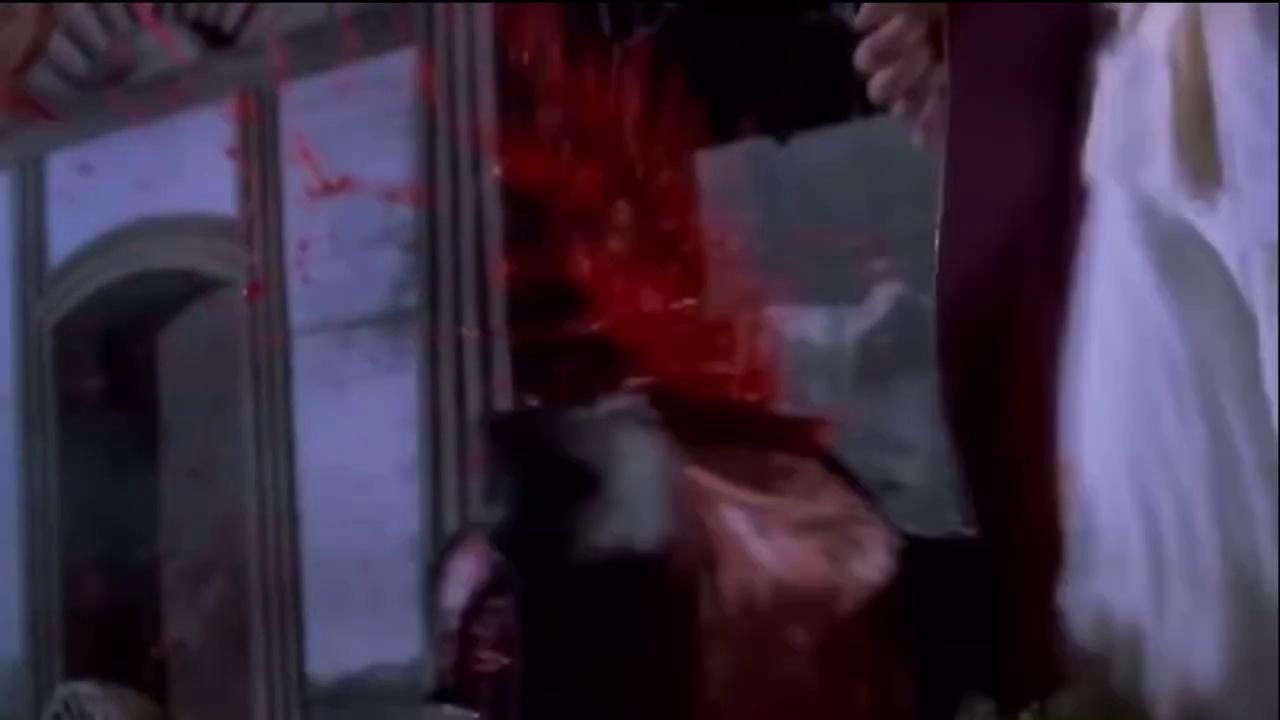Fire: (98, 3, 510, 354), (497, 3, 773, 404), (685, 448, 902, 719)
